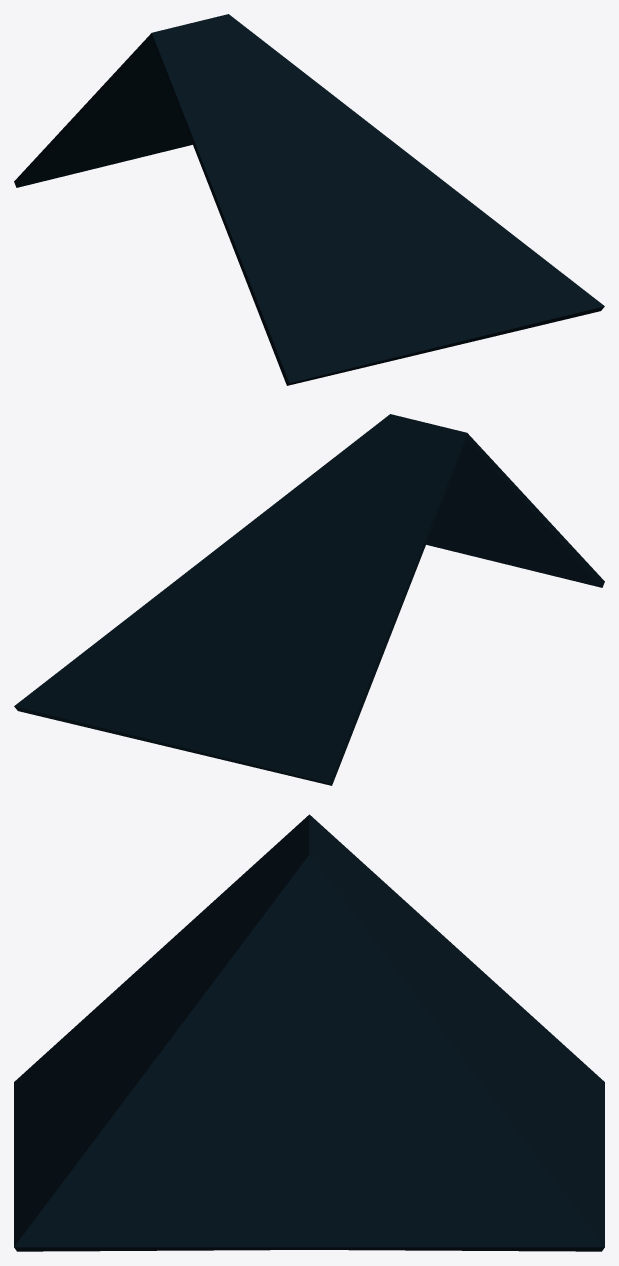
The model's file is RoofLowGableHip.fbx.
3 renders of one model, top to bottom at view 1: azimuth 30°, elevation 25°; view 2: azimuth 150°, elevation 25°; view 3: azimuth 270°, elevation 25°, orthographic. The views are drawn at different scales.
Visible parts, largest first — view 1: RoofLowGableHip; view 2: RoofLowGableHip; view 3: RoofLowGableHip.
Boxes of the visible parts, bbox=[...] form: RoofLowGableHip: bbox=[14, 14, 604, 385]; RoofLowGableHip: bbox=[14, 414, 604, 785]; RoofLowGableHip: bbox=[14, 814, 604, 1251].
Size of the model in its own units: 410 by 317 by 620.
